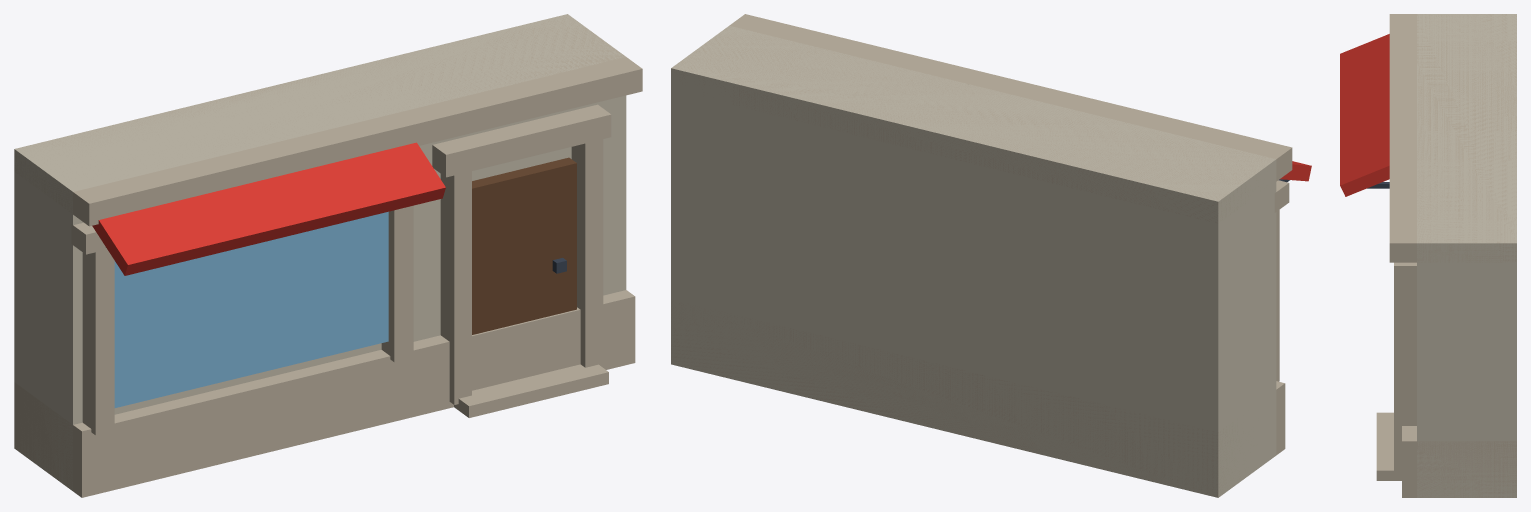
The model's file is cittaCremaBaseA.glb.
The picture shows the model from 3 angles, left to right: view 1: azimuth 30°, elevation 25°; view 2: azimuth 150°, elevation 25°; view 3: azimuth 270°, elevation 25°; orthographic projection. The views are drawn at different scales.
Visible parts, largest first — view 1: cittaCremaBaseA_stone, cittaCremaBaseA_cittaCrema, cittaCremaBaseA_glass, cittaCremaBaseA_red, cittaCremaBaseA_bark; view 2: cittaCremaBaseA_cittaCrema, cittaCremaBaseA_stone; view 3: cittaCremaBaseA_cittaCrema, cittaCremaBaseA_stone, cittaCremaBaseA_red.
Part boxes in pixels (x1,y1,x2,y2): cittaCremaBaseA_stone: (14,14,642,497); cittaCremaBaseA_cittaCrema: (14,14,626,490); cittaCremaBaseA_glass: (114,211,388,407); cittaCremaBaseA_red: (92,142,445,275); cittaCremaBaseA_bark: (472,157,576,334); cittaCremaBaseA_cittaCrema: (671,25,1276,497); cittaCremaBaseA_stone: (671,14,1292,497); cittaCremaBaseA_cittaCrema: (1417,14,1516,497); cittaCremaBaseA_stone: (1376,14,1516,497); cittaCremaBaseA_red: (1340,34,1389,196).
Bounding box in the file's own units: 8.7 × 4.5 × 2.84.
